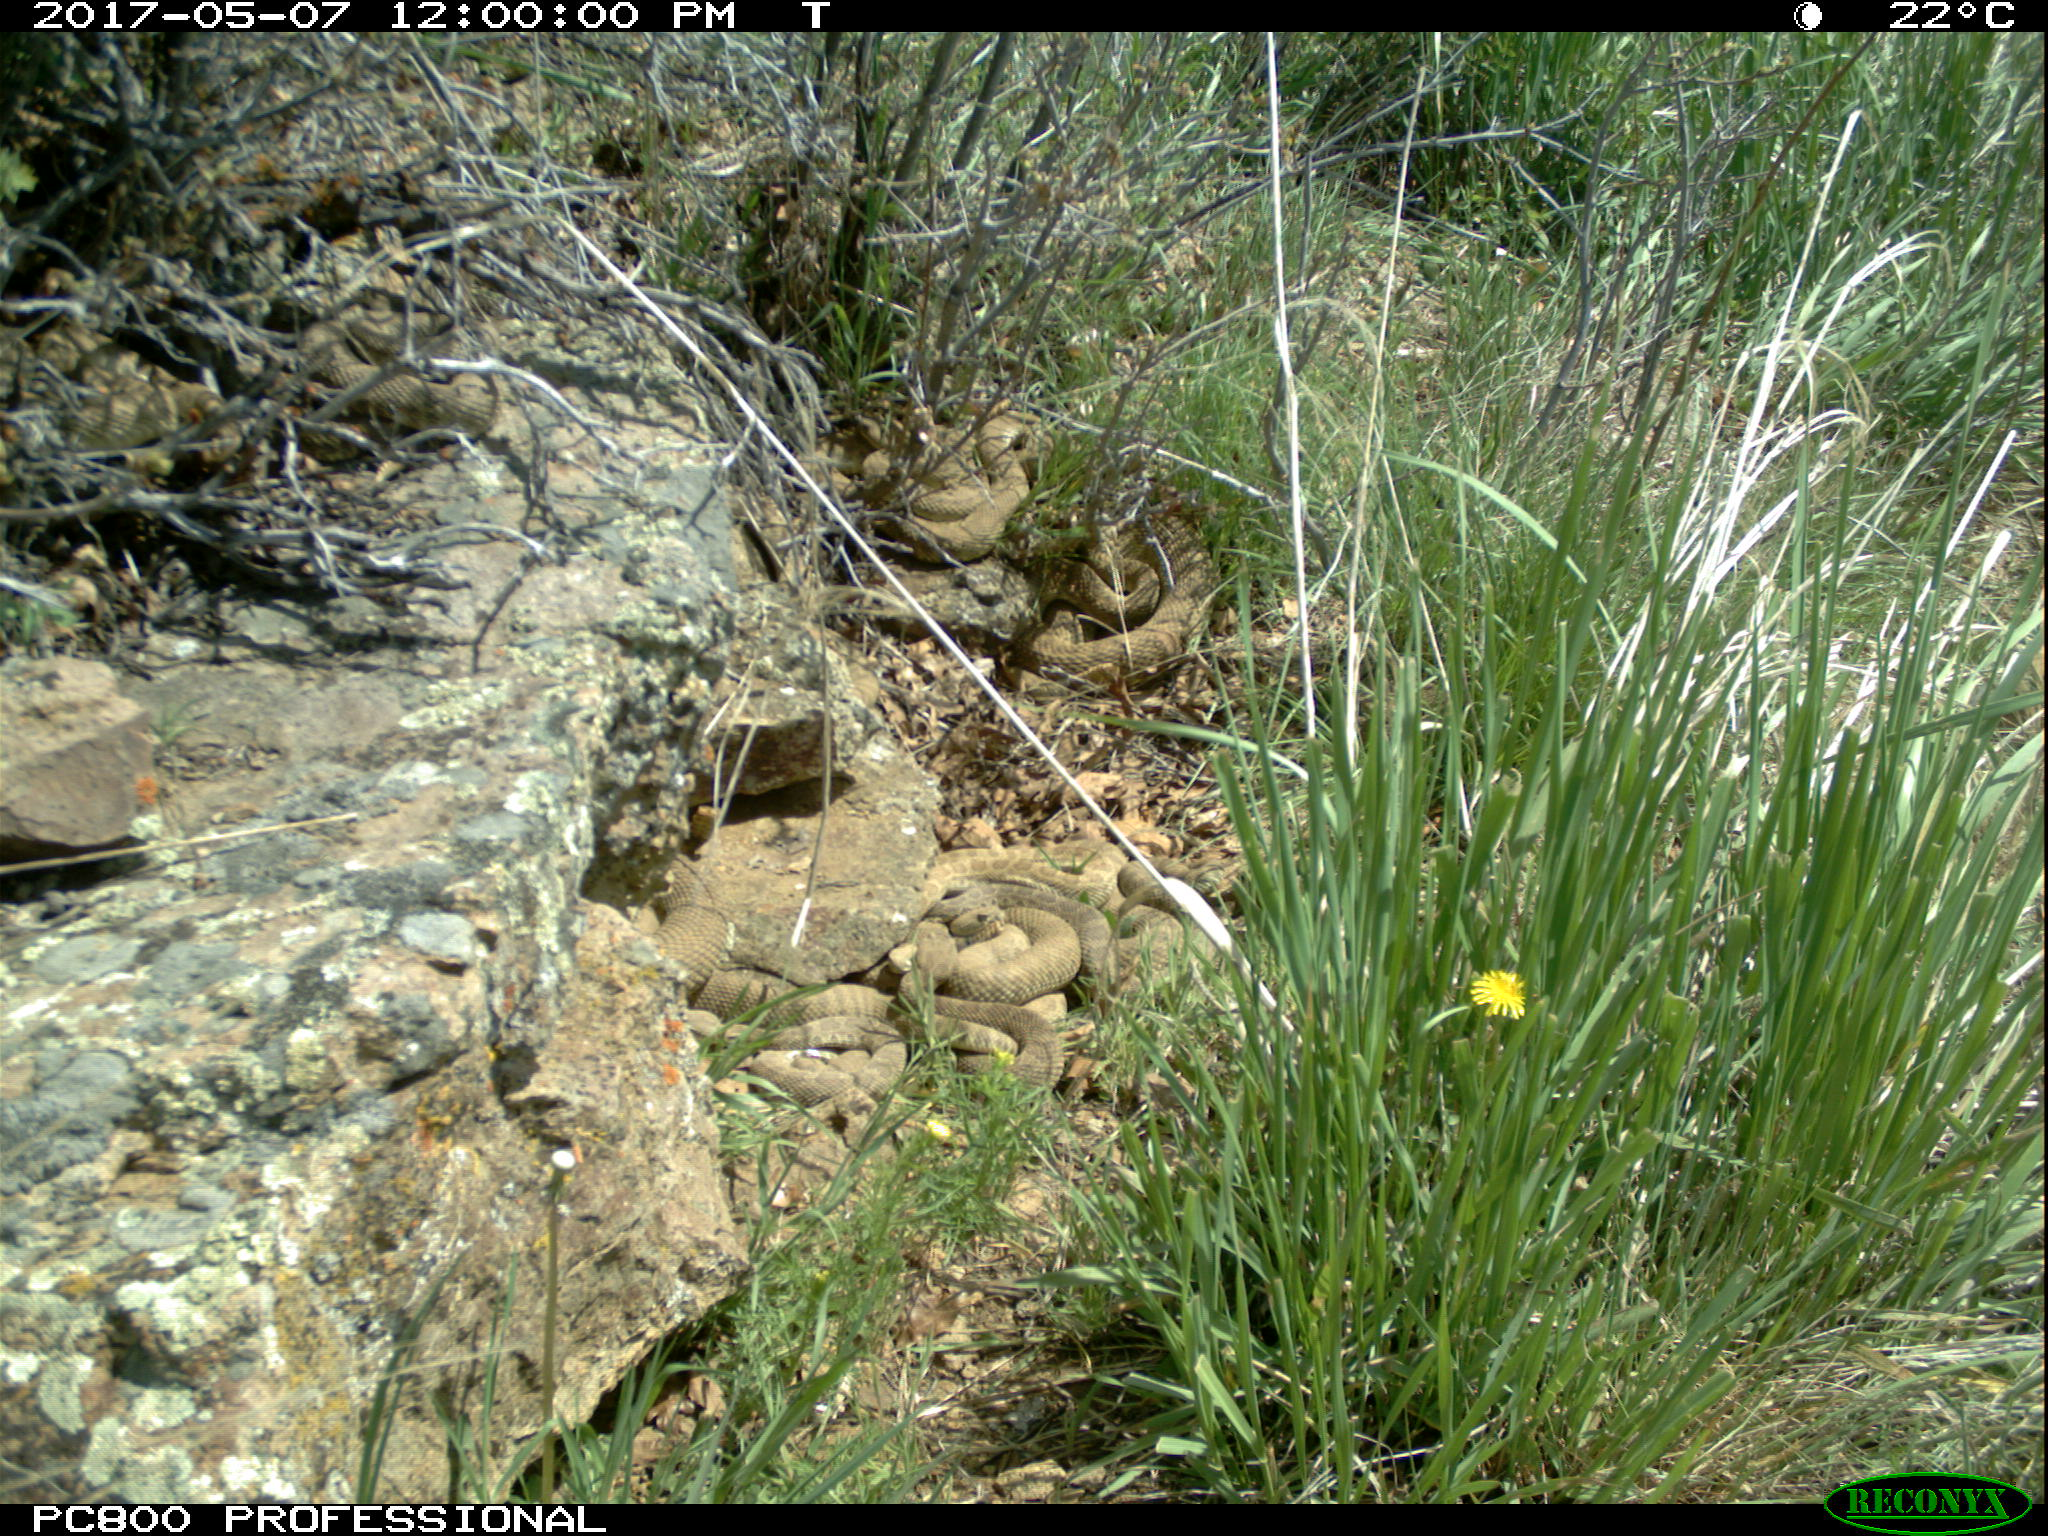snake: (671, 866, 1076, 1126), (69, 315, 498, 449), (921, 833, 1213, 987), (1014, 518, 1229, 679), (847, 407, 1039, 557)
